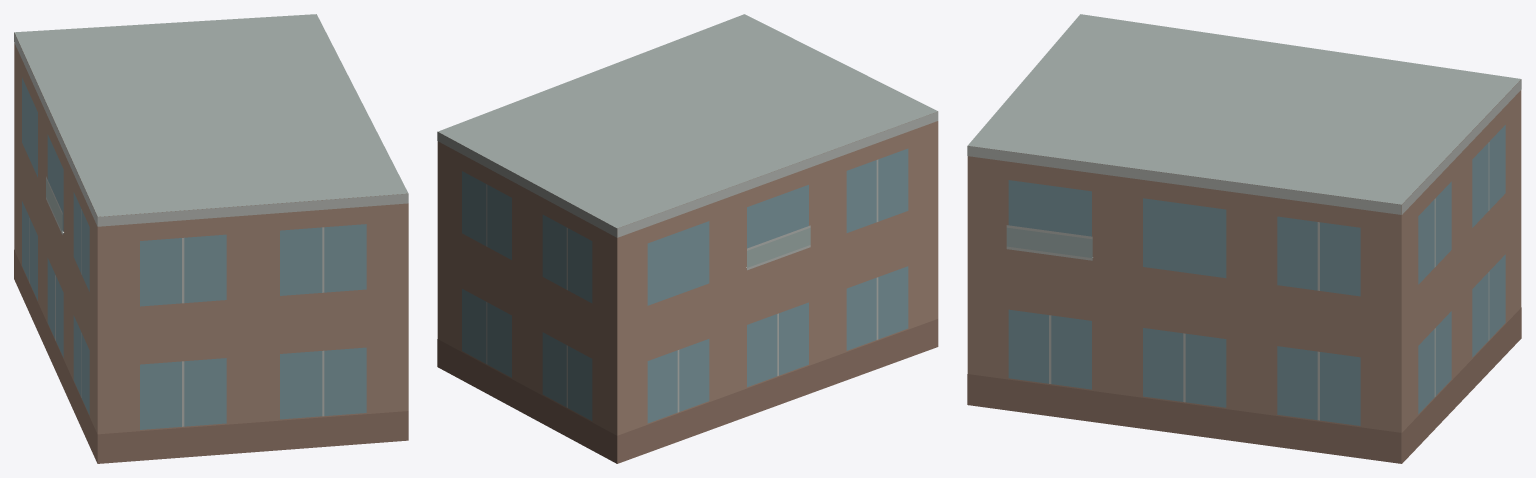
The model's file is survey-upis-32987532.glb.
The picture shows the model from 3 angles, left to right: view 1: azimuth 30°, elevation 25°; view 2: azimuth 150°, elevation 25°; view 3: azimuth 270°, elevation 25°; orthographic projection. The views are drawn at different scales.
Visible parts, largest first — view 1: survey-upis-32987532.tmp; view 2: survey-upis-32987532.tmp; view 3: survey-upis-32987532.tmp.
Part boxes in pixels (x1,y1,x2,y2): survey-upis-32987532.tmp: (14, 14, 408, 463); survey-upis-32987532.tmp: (437, 14, 938, 463); survey-upis-32987532.tmp: (967, 14, 1521, 463).
Bounding box in the file's own units: 9.63 × 6.1 × 11.83.
